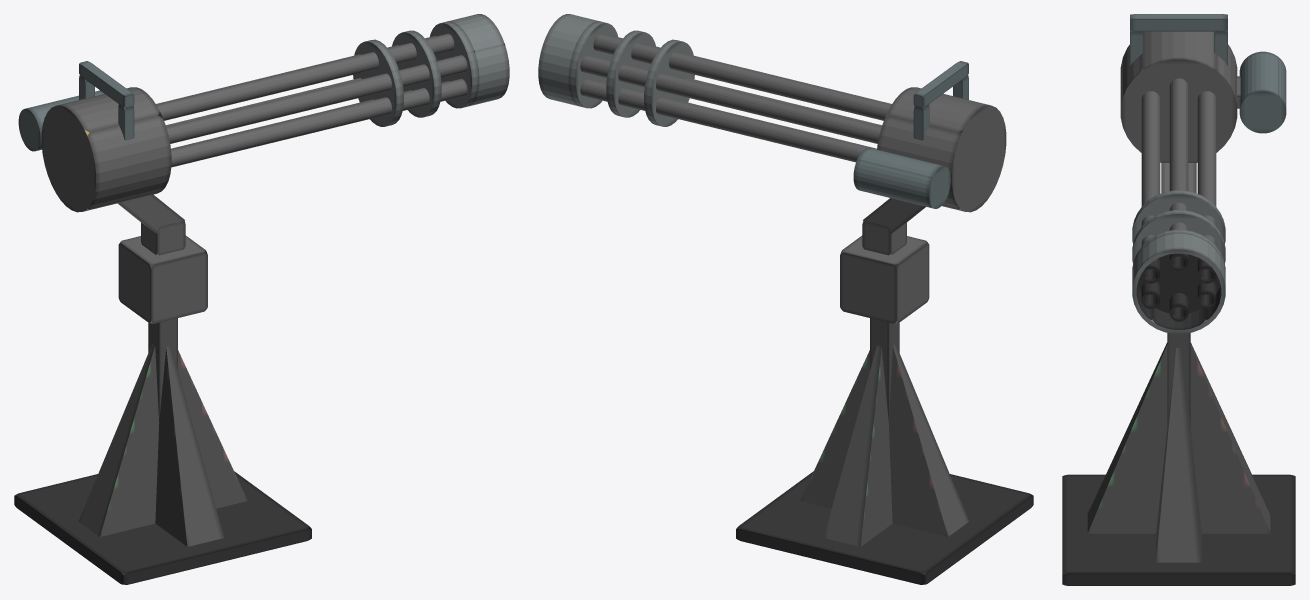
The model's file is gatlingGun.fbx.
The picture shows the model from 3 angles, left to right: view 1: azimuth 30°, elevation 25°; view 2: azimuth 150°, elevation 25°; view 3: azimuth 270°, elevation 25°; orthographic projection. The views are drawn at different scales.
Visible parts, largest first — view 1: cuboid, cylinder_3, pyramid_3, pyramid, cuboid_2, tube_3, tube_2, tube, pyramid_1, tube_6, cylinder_1, cylinder (+6 smaller); view 2: cuboid, cylinder_3, pyramid_3, pyramid_2, cuboid_2, tube_4, tube, tube_5, cylinder_4, pyramid_1, tube_6, cylinder_1 (+6 smaller); view 3: cuboid, cylinder_3, pyramid, pyramid_2, pyramid_1, tube_6, cylinder_4, tube, tube_3, tube_4, cylinder_2, cuboid_5 (+9 smaller).
Part boxes in pixels (x1,y1,x2,y2): cuboid: [14, 471, 311, 584]; cylinder_3: [41, 87, 171, 212]; pyramid_3: [78, 344, 159, 536]; pyramid: [155, 346, 224, 546]; cuboid_2: [118, 235, 207, 323]; tube_3: [166, 55, 467, 143]; tube_2: [171, 78, 467, 167]; tube: [156, 33, 454, 120]; pyramid_1: [178, 350, 247, 508]; tube_6: [448, 14, 509, 106]; cylinder_1: [353, 39, 403, 126]; cylinder: [392, 30, 441, 117]; cuboid: [736, 471, 1033, 584]; cylinder_3: [877, 87, 1006, 212]; pyramid_3: [888, 344, 969, 536]; pyramid_2: [823, 346, 892, 546]; cuboid_2: [840, 235, 929, 323]; tube_4: [580, 55, 881, 143]; tube: [593, 33, 891, 120]; tube_5: [580, 78, 876, 162]; cylinder_4: [853, 148, 950, 208]; pyramid_1: [800, 350, 869, 508]; tube_6: [538, 14, 599, 106]; cylinder_1: [644, 39, 694, 126]; cuboid: [1062, 474, 1295, 585]; cylinder_3: [1120, 31, 1237, 162]; pyramid: [1087, 342, 1167, 533]; pyramid_2: [1190, 342, 1270, 533]; pyramid_1: [1156, 348, 1201, 562]; tube_6: [1132, 233, 1225, 333]; cylinder_4: [1239, 51, 1286, 133]; tube: [1169, 78, 1188, 270]; tube_3: [1141, 91, 1160, 283]; tube_4: [1197, 91, 1216, 283]; cylinder_2: [1132, 229, 1225, 313]; cuboid_5: [1130, 14, 1227, 31].
Size of the model in its own units: 69.37 by 72.5 by 31.25.
1 material, 1 textured.
